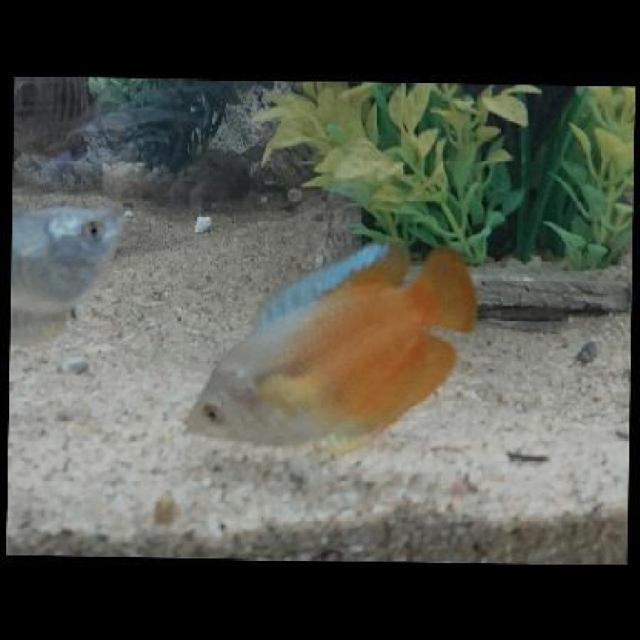Gourami: (174, 236, 483, 450)
